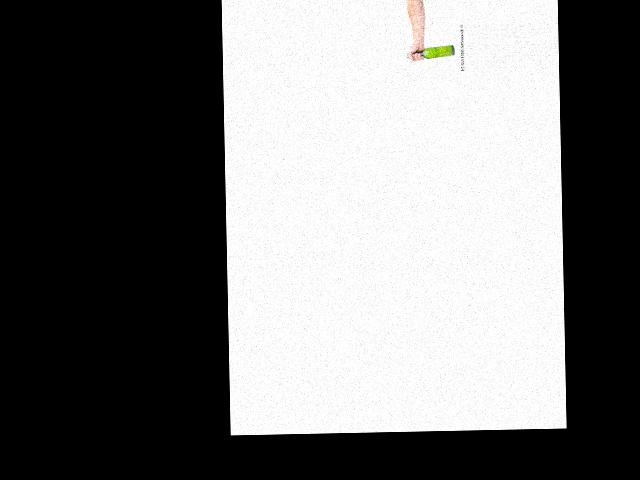beer: (407, 44, 455, 58)
